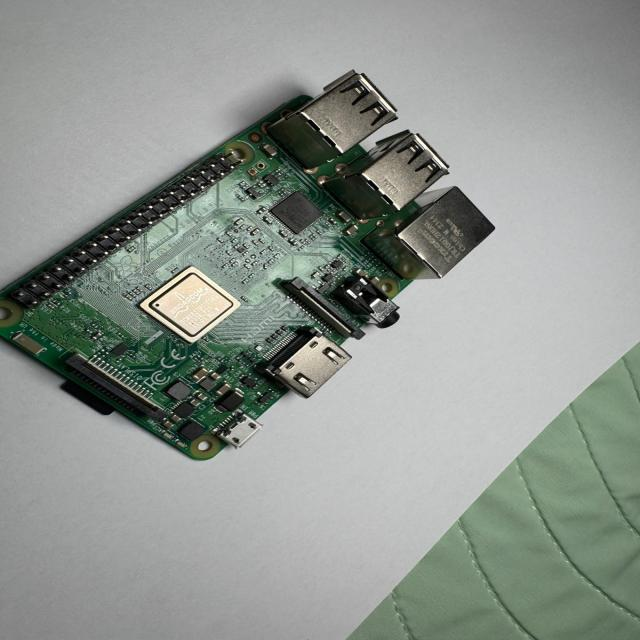CPU: (137, 263, 249, 346)
Ethernet: (363, 189, 504, 286)
GPIO: (7, 152, 248, 310)
HDMI: (254, 326, 360, 401)
RAM-3: (266, 190, 330, 239)
Raspberry: (1, 72, 506, 473)
